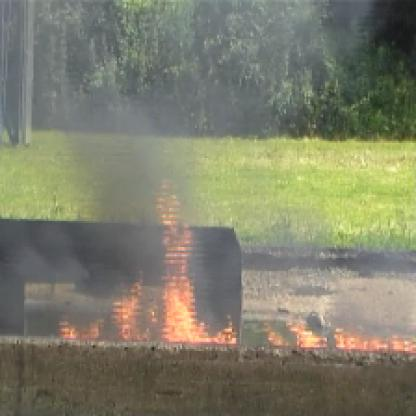Fire: (61, 175, 238, 351), (255, 308, 414, 362)
Smoke: (2, 2, 156, 269)
